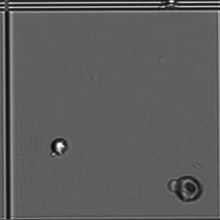Dead Cell: (174, 172, 203, 204)
Living Cell: (47, 135, 70, 157)
